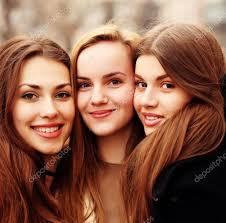bare: (7, 103, 73, 153), (77, 92, 134, 136), (132, 90, 180, 136)
